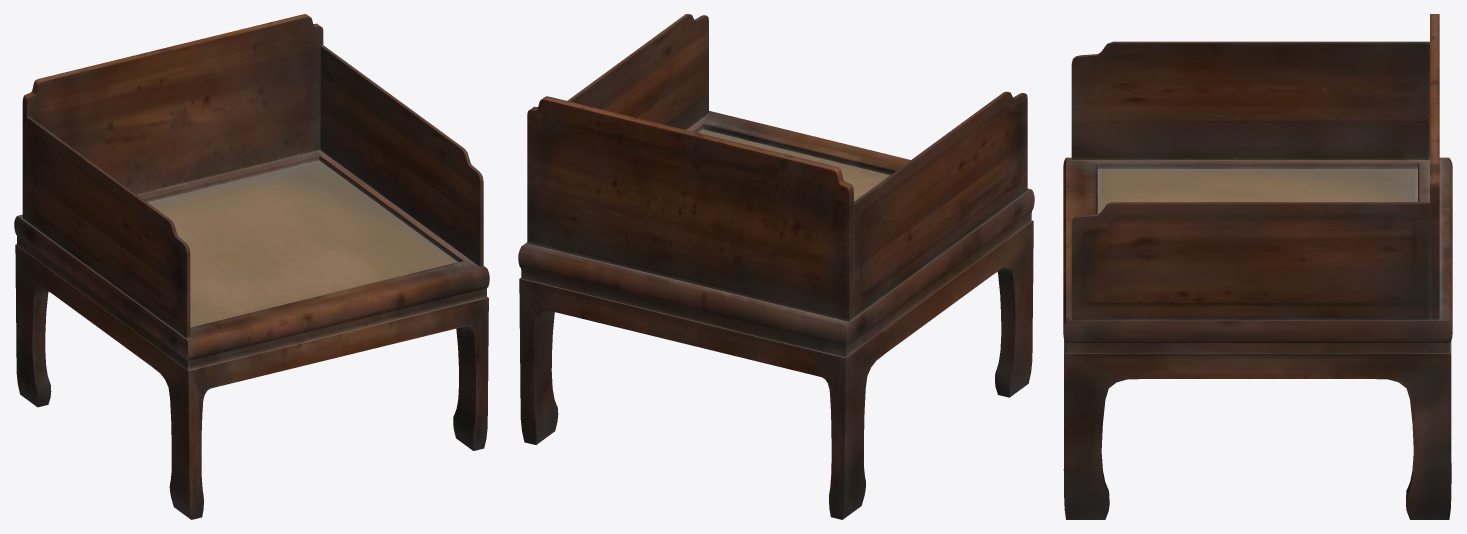
The model's file is ph-chinese-sofa.glb.
3 renders of one model, left to right at view 1: azimuth 30°, elevation 25°; view 2: azimuth 150°, elevation 25°; view 3: azimuth 270°, elevation 25°, orthographic. The views are drawn at different scales.
Visible parts, largest first — view 1: chinese_sofa; view 2: chinese_sofa; view 3: chinese_sofa.
Part boxes in pixels (<box>): chinese_sofa: <box>14,14,489,519</box>; chinese_sofa: <box>518,14,1034,519</box>; chinese_sofa: <box>1063,14,1452,519</box>.
Size of the model in its own units: 1 by 1 by 1.
Materials: 1 (1 with a texture image).
